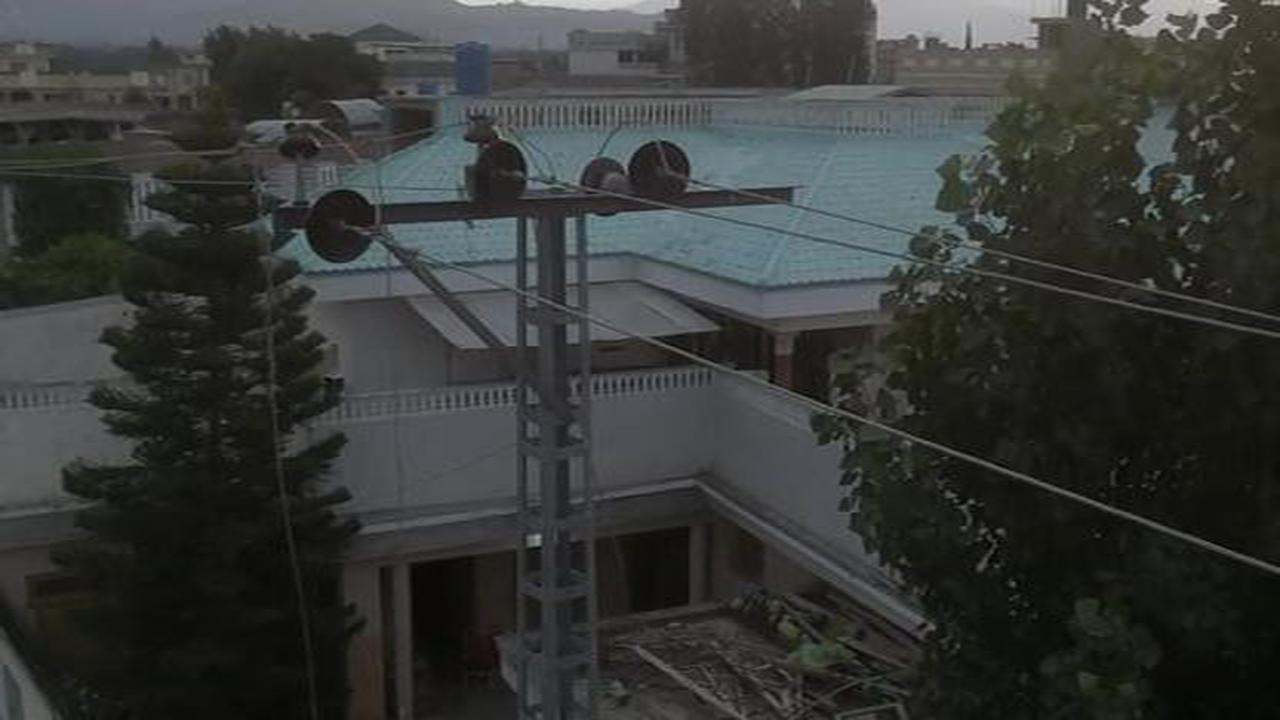insulator_disc: (299, 182, 383, 266), (626, 134, 699, 208), (474, 143, 529, 214), (576, 152, 629, 213)
insulator_pin: (273, 119, 325, 166), (462, 110, 507, 146)
